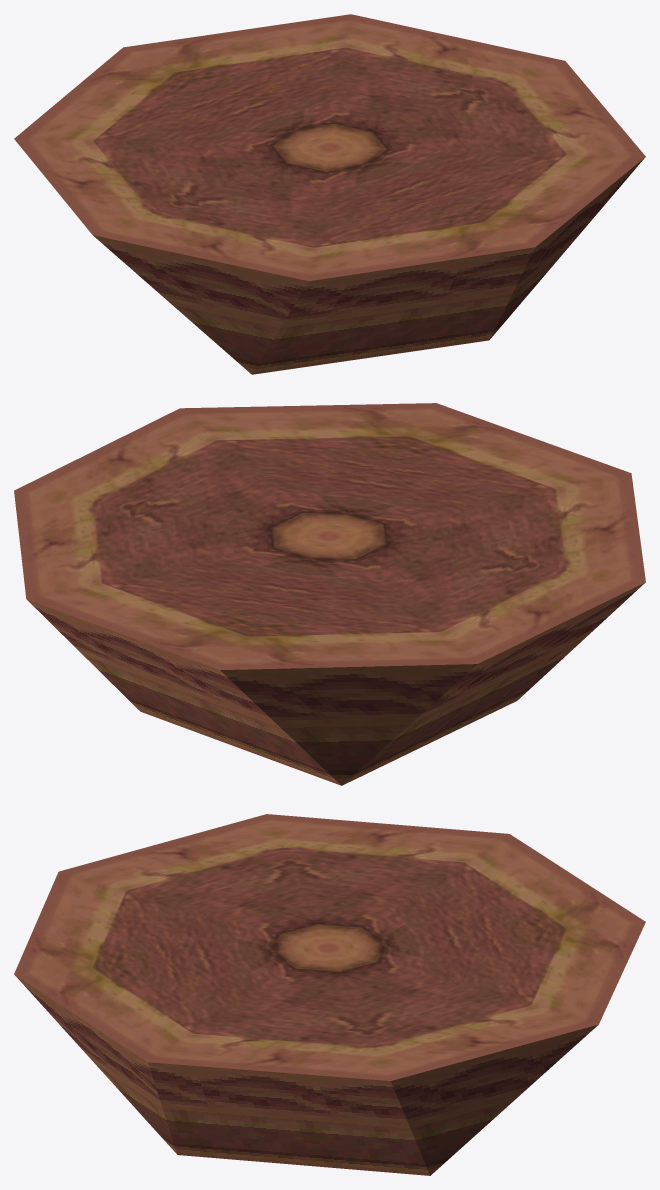
File: plat-lod2.glb
3 renders of one model, top to bottom at view 1: azimuth 30°, elevation 25°; view 2: azimuth 150°, elevation 25°; view 3: azimuth 270°, elevation 25°, orthographic. The views are drawn at different scales.
Parts seen in each view (by area): view 1: plat-lod2; view 2: plat-lod2; view 3: plat-lod2.
Boxes of the visible parts, box(x1,y1,x2,y2) form: plat-lod2: box(14, 14, 645, 374); plat-lod2: box(14, 403, 645, 785); plat-lod2: box(14, 814, 645, 1175).
Bounding box in the file's own units: 4.79 × 1.37 × 4.79.
Materials: 3 (3 with a texture image).
